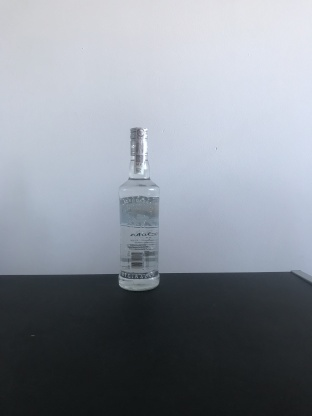nakretka: (127, 123, 150, 158)
